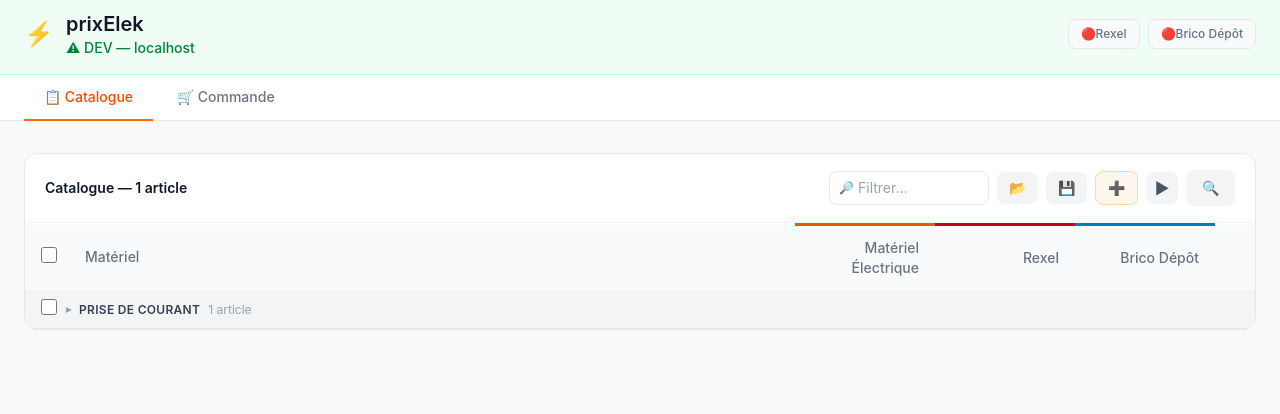
Scenario: App › renders the catalogue table with a material
What coordinates should you click on to do the following:
click the button named "Tout déplier"
I would click on:
 (1162, 188)
Its box is x1=1146 y1=172 x2=1178 y2=204.
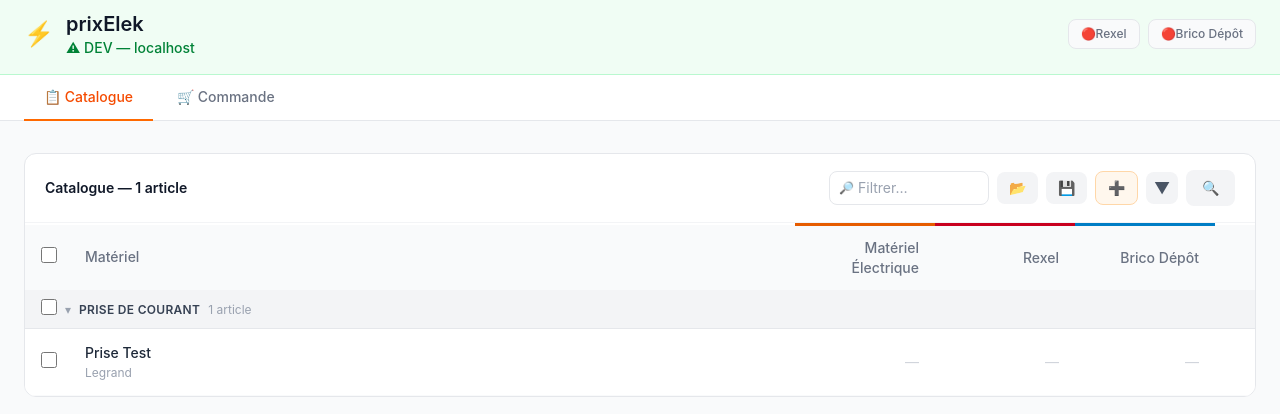
Expected: the text "Prise Test" is shown, x1=85 y1=344 x2=151 y2=361
